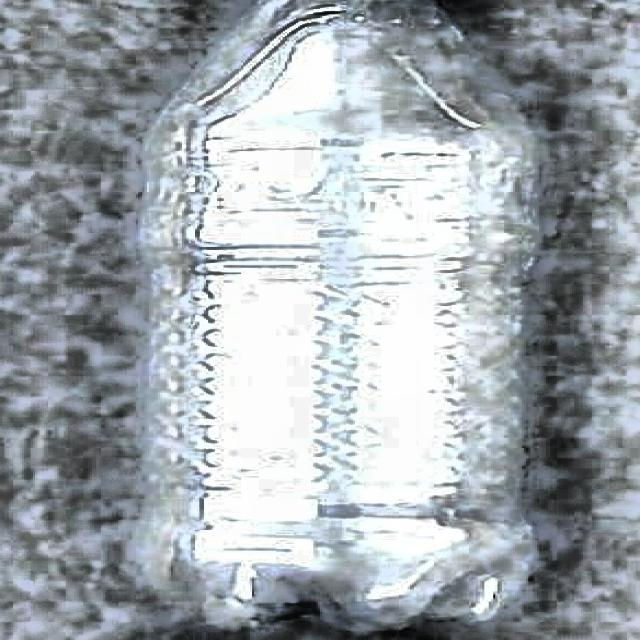plastic: (118, 0, 568, 640)
